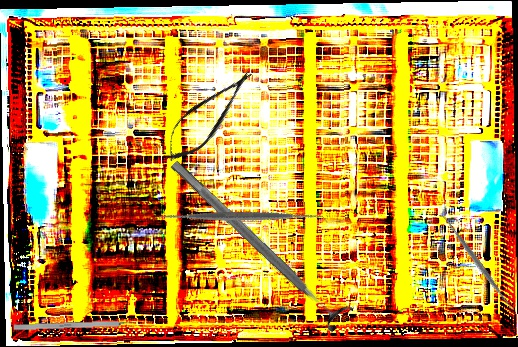Fixation Ring: (161, 150, 356, 334)
Hook Surgical: (13, 319, 144, 331)
Micro Scissor: (153, 59, 264, 171)
Spatula Surgical: (151, 127, 331, 306), (436, 209, 518, 315)
